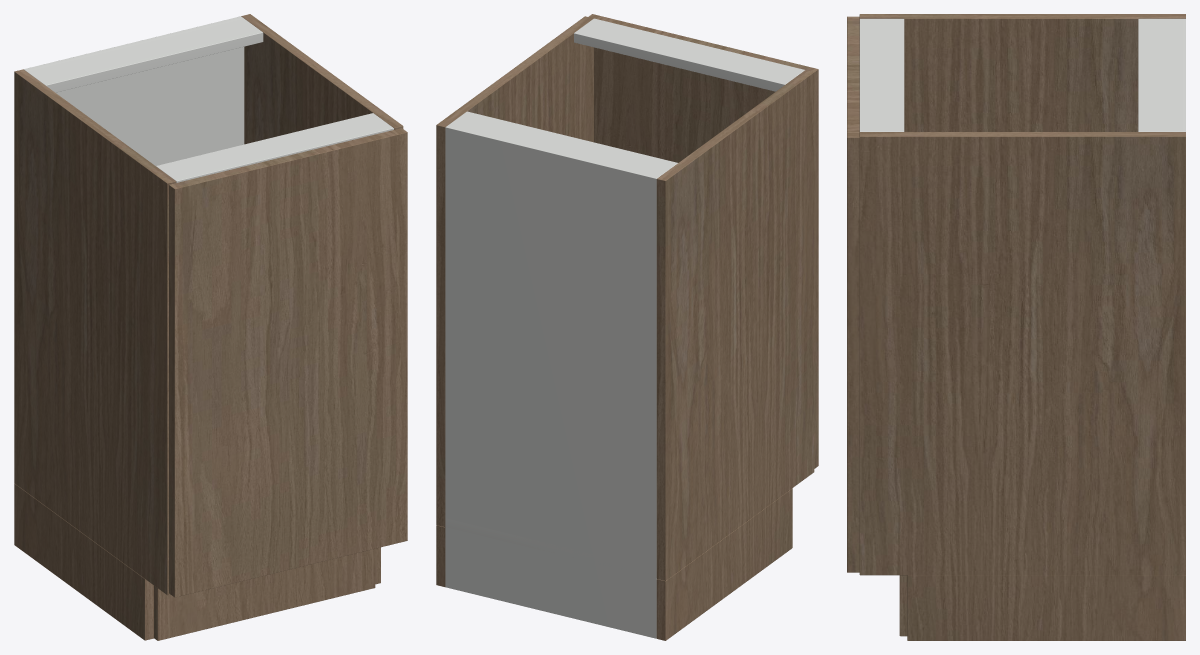
Rendered from bvc-1801.glb.
The picture shows the model from 3 angles, left to right: view 1: azimuth 30°, elevation 25°; view 2: azimuth 150°, elevation 25°; view 3: azimuth 270°, elevation 25°; orthographic projection. The views are drawn at different scales.
Visible parts, largest first — view 1: Door, Cabinet side, Cabinet back, Cabinet side.001, Recessed toe board, Recessed side plinth, Top support rail, Top support rail.001; view 2: Cabinet back, Cabinet side, Door, Cabinet side.001, Recessed side plinth, Top support rail.001, Top support rail, Cabinet bottom, Recessed side plinth.001; view 3: Cabinet side.001, Cabinet side, Recessed side plinth.001, Door, Top support rail.001, Top support rail, Cabinet back, Recessed toe board.
Boxes of the visible parts, x1,y1,x2,y2 form: Door: (169, 128, 407, 597); Cabinet side: (14, 69, 176, 595); Cabinet back: (24, 16, 244, 165); Cabinet side.001: (241, 14, 403, 144); Recessed toe board: (154, 549, 375, 640); Recessed side plinth: (14, 483, 153, 640); Top support rail: (25, 18, 263, 92); Top support rail.001: (156, 113, 393, 182); Cabinet back: (445, 125, 659, 638); Cabinet side: (656, 70, 814, 580); Door: (588, 14, 818, 468); Cabinet side.001: (436, 16, 593, 526); Recessed side plinth: (656, 488, 792, 640); Top support rail.001: (574, 18, 804, 91); Top support rail: (448, 111, 677, 177); Cabinet bottom: (445, 518, 653, 573); Recessed side plinth.001: (436, 525, 445, 586); Cabinet side.001: (859, 132, 1185, 575); Cabinet side: (859, 14, 1185, 131); Recessed side plinth.001: (907, 575, 1185, 640); Door: (847, 16, 859, 572); Top support rail.001: (859, 18, 904, 131); Top support rail: (1138, 18, 1181, 131); Cabinet back: (1178, 18, 1185, 131); Recessed toe board: (899, 575, 907, 636).
Size of the model in its own units: 0.4572 by 0.8763 by 0.5334.
2 materials, 1 textured.
